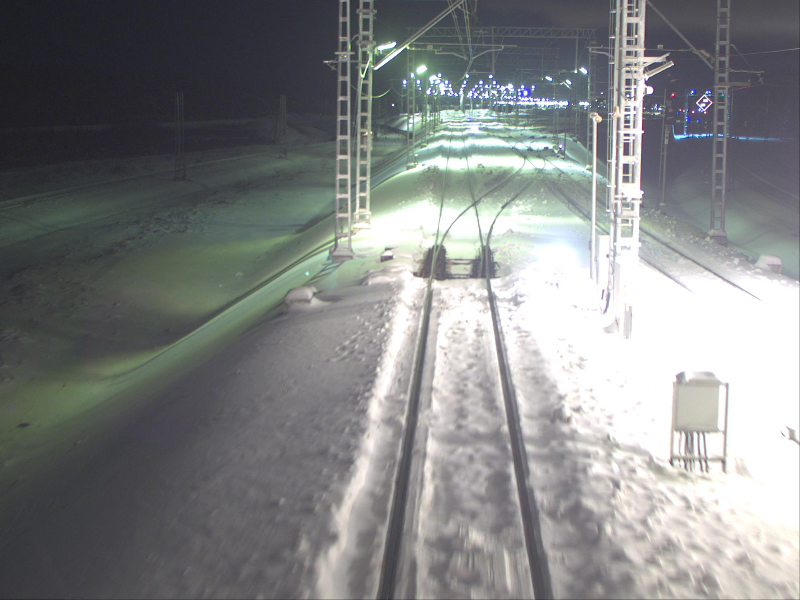right: (430, 244, 495, 282)
